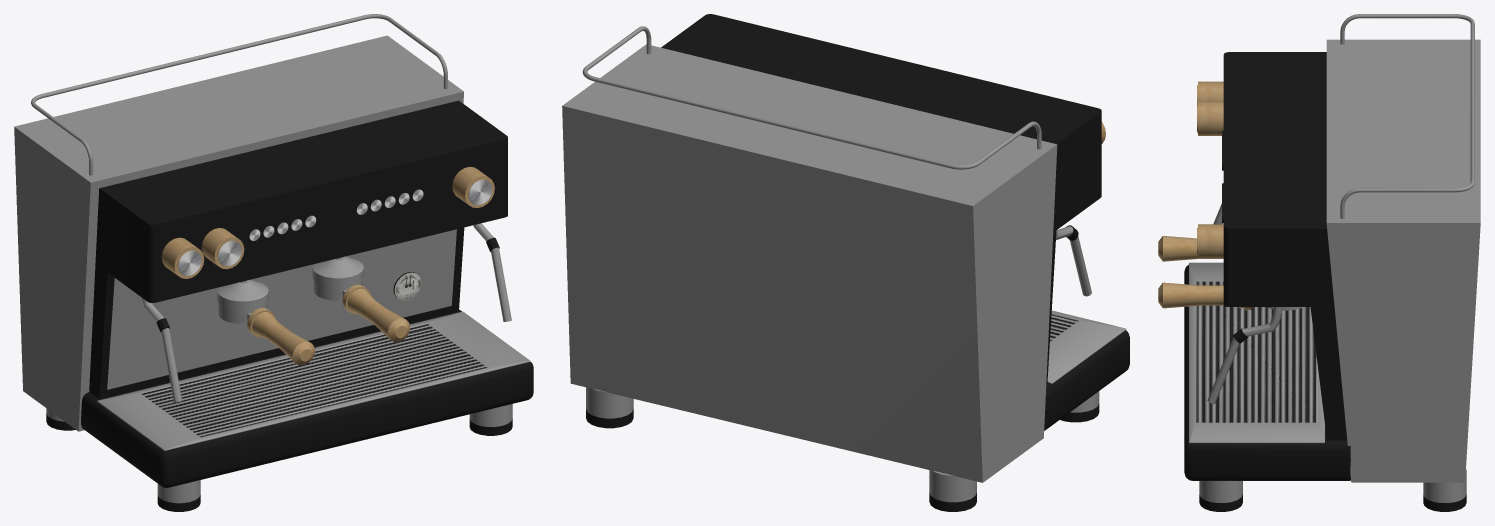
The model's file is Coffee machine.FBX.
3 renders of one model, left to right at view 1: azimuth 30°, elevation 25°; view 2: azimuth 150°, elevation 25°; view 3: azimuth 270°, elevation 25°, orthographic. The views are drawn at different scales.
Visible parts, largest first — view 1: coffee machine; view 2: coffee machine; view 3: coffee machine.
Boxes of the visible parts, x1=… form: coffee machine: x1=14, y1=14, x2=533, y2=511; coffee machine: x1=562, y1=14, x2=1129, y2=511; coffee machine: x1=1158, y1=14, x2=1480, y2=511.
Size of the model in its own units: 89.63 by 73.1 by 66.34.
3 materials, 2 textured.
